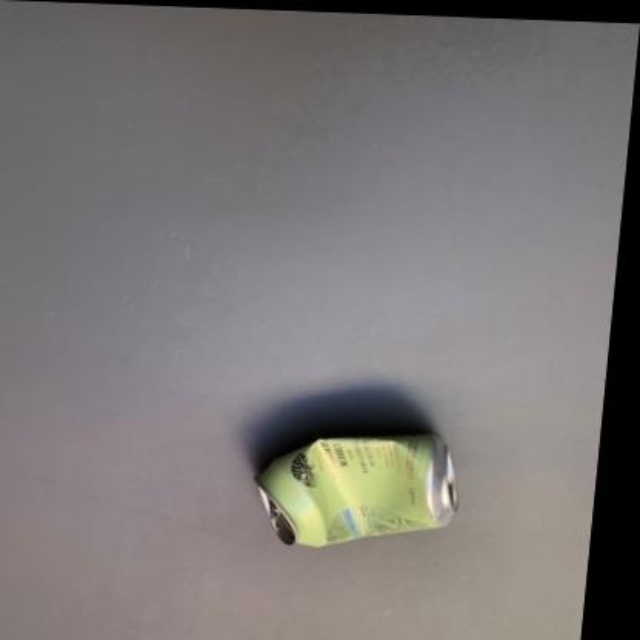trash: (255, 434, 455, 546)
